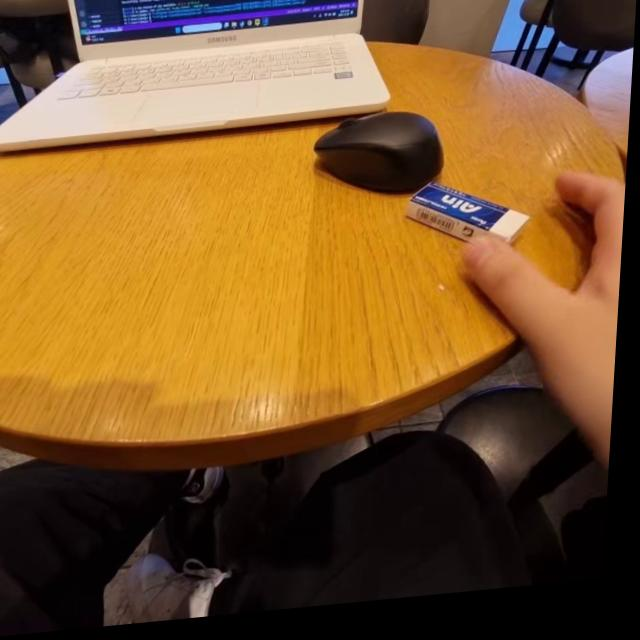eraser: (412, 171, 544, 270)
hand: (536, 161, 630, 460)
mouse: (309, 106, 457, 211)
